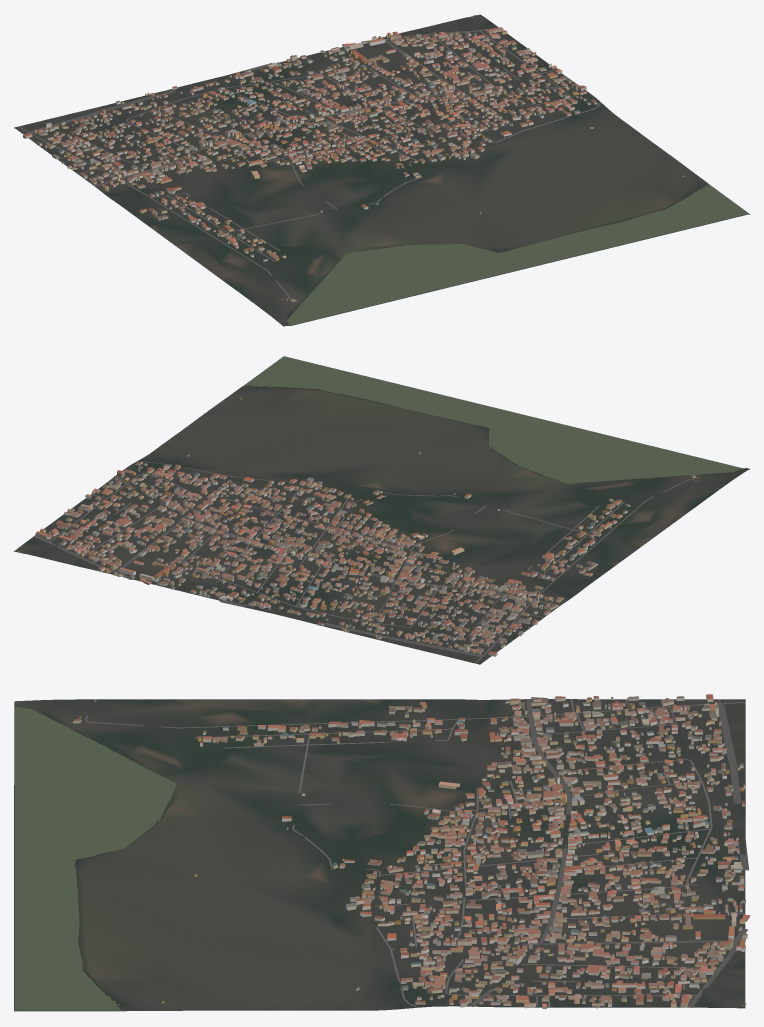
3 views of the same model, one above another, from view 1: azimuth 30°, elevation 25°; view 2: azimuth 150°, elevation 25°; view 3: azimuth 270°, elevation 25° (orthographic). The views are drawn at different scales.
Visible parts, largest first — view 1: ground, buildings, water, roads; view 2: ground, buildings, water, roads; view 3: ground, buildings, water, roads.
Part boxes in pixels (x1,y1,x2,y2): ground: [14, 14, 749, 326]; buildings: [23, 27, 684, 301]; water: [287, 15, 748, 325]; roads: [18, 29, 601, 302]; ground: [14, 356, 749, 664]; buildings: [35, 397, 698, 656]; water: [17, 356, 742, 552]; roads: [33, 461, 719, 663]; ground: [14, 699, 745, 1011]; buildings: [73, 694, 749, 1008]; water: [14, 706, 746, 1010]; roads: [85, 699, 749, 1007].
Bounding box in the file's own units: 1414 × 28.66 × 1411.
